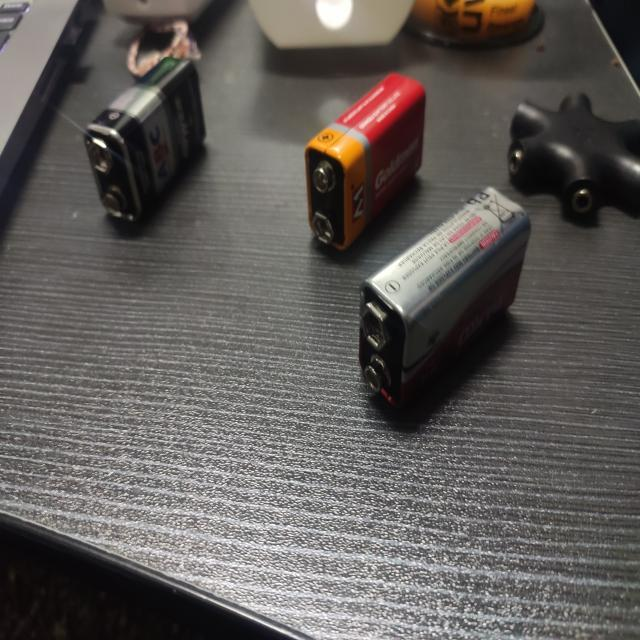hazardous waste: (337, 159, 538, 422), (282, 46, 432, 266), (74, 31, 219, 240)
